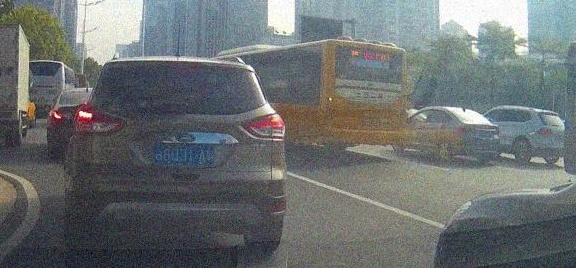L_light: (72, 103, 125, 136), (321, 97, 332, 115)
R_light: (237, 111, 285, 141), (397, 100, 406, 117)
T_light: (171, 62, 190, 70), (360, 77, 382, 82)
day-left: (70, 52, 287, 253)
day-no: (319, 36, 408, 158)
